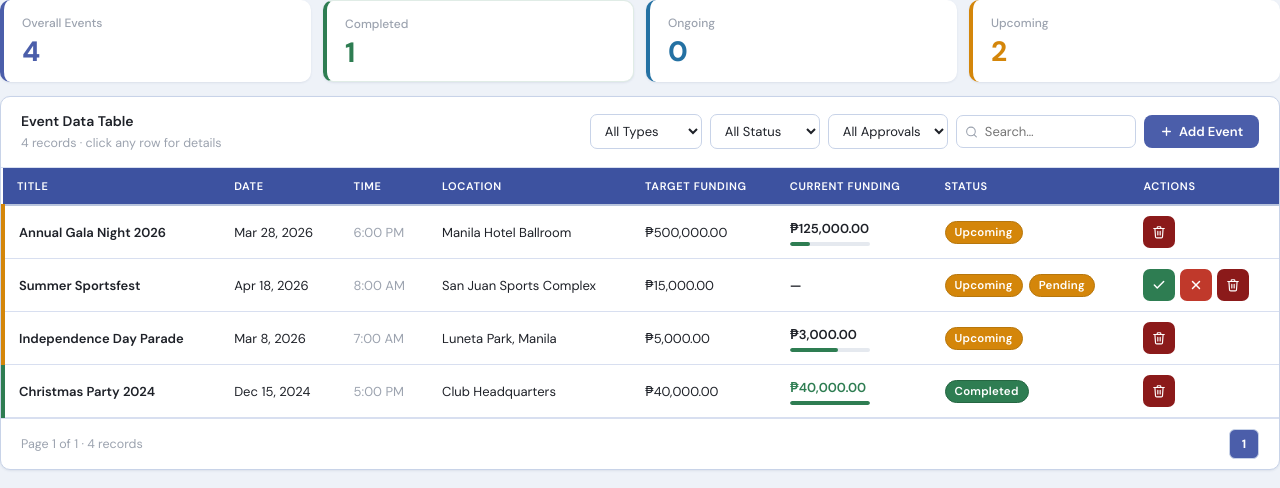
Test: Events › the type filter narrows the table and search can empty it
Select "Sports" in the 1st dropdown. click: (646, 132)
box: top-left (590, 114), bottom-right (702, 149)
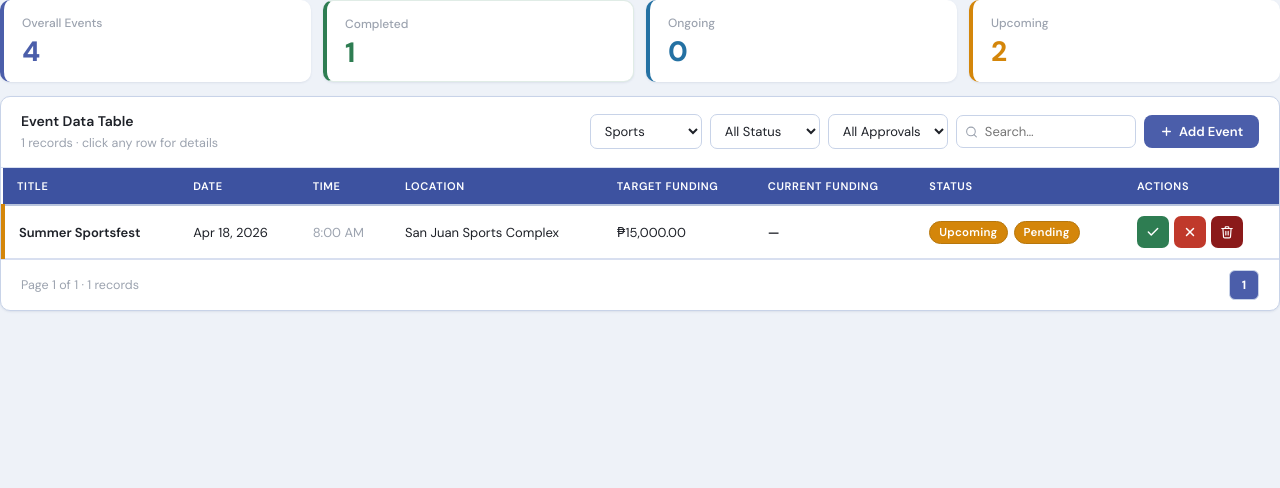
Select "All Types" in the 1st dropdown. click: (646, 132)
box: top-left (590, 114), bottom-right (702, 149)
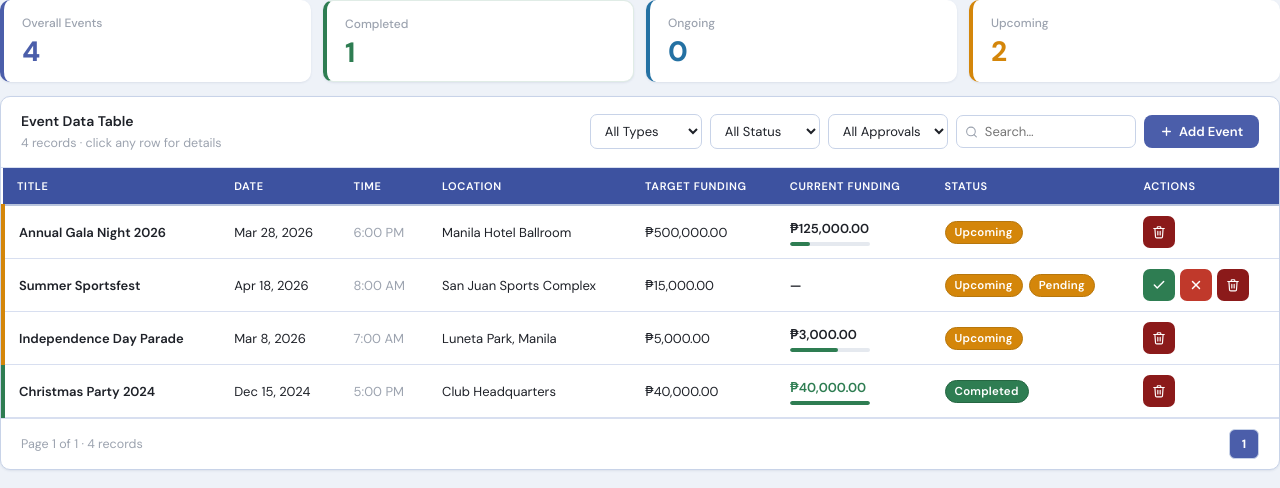
Type "zzz-no-match" into the field with placeholder "Search…". click: (1046, 132)
box: top-left (956, 115), bottom-right (1136, 148)
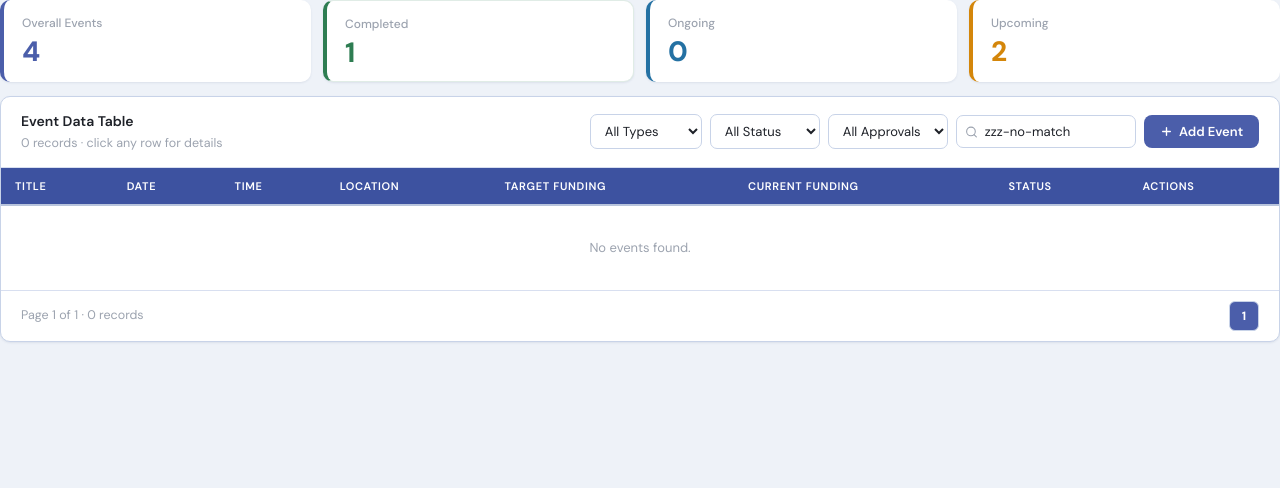
Check: the text "No events found." is shown, box top-left (1, 205), bottom-right (1279, 290)
